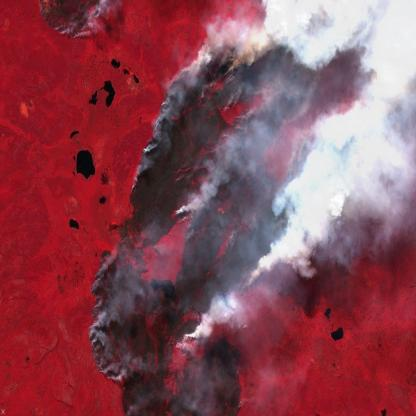fire: (83, 28, 378, 384), (36, 0, 110, 41)
